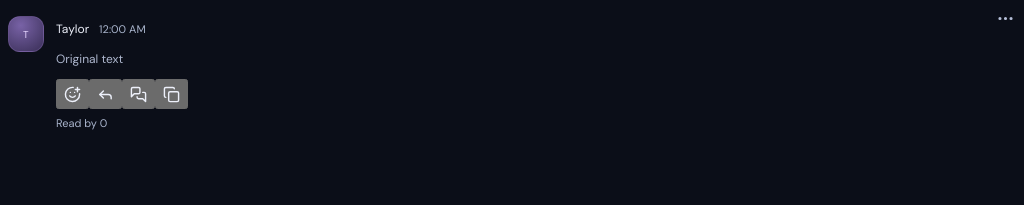
Test: ordinary members see reply/copy/report but no foreign edit/delete or moderator pin controls
The image size is (1024, 205).
Click the heading named "Message actions": (1005, 18) x1=996 y1=8 x2=1014 y2=28
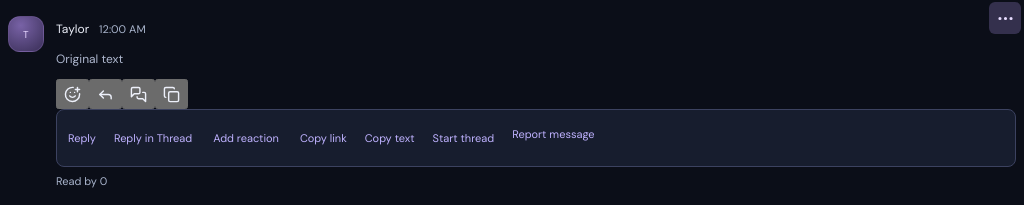
Now the button "Reply" is shown, box x1=63 y1=116 x2=101 y2=160
Now the button "Start thread" is shown, box x1=428 y1=116 x2=499 y2=160
